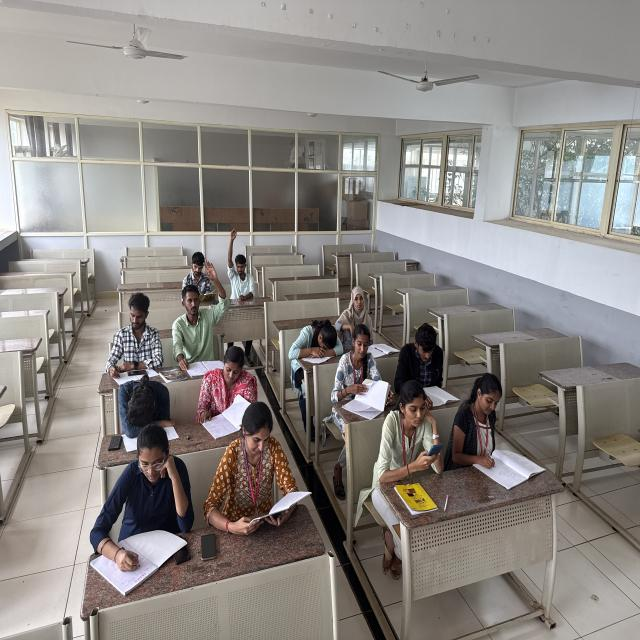Hand Rising: (170, 261, 228, 364), (224, 221, 265, 313)
Reading: (220, 398, 306, 540), (398, 317, 460, 407), (200, 346, 260, 431), (337, 327, 393, 416), (174, 248, 217, 304)
Sleeping: (110, 371, 176, 432), (283, 313, 342, 372)
Using Phone: (376, 376, 442, 485)
Writing: (88, 432, 204, 578), (448, 368, 530, 488), (96, 282, 174, 392)
